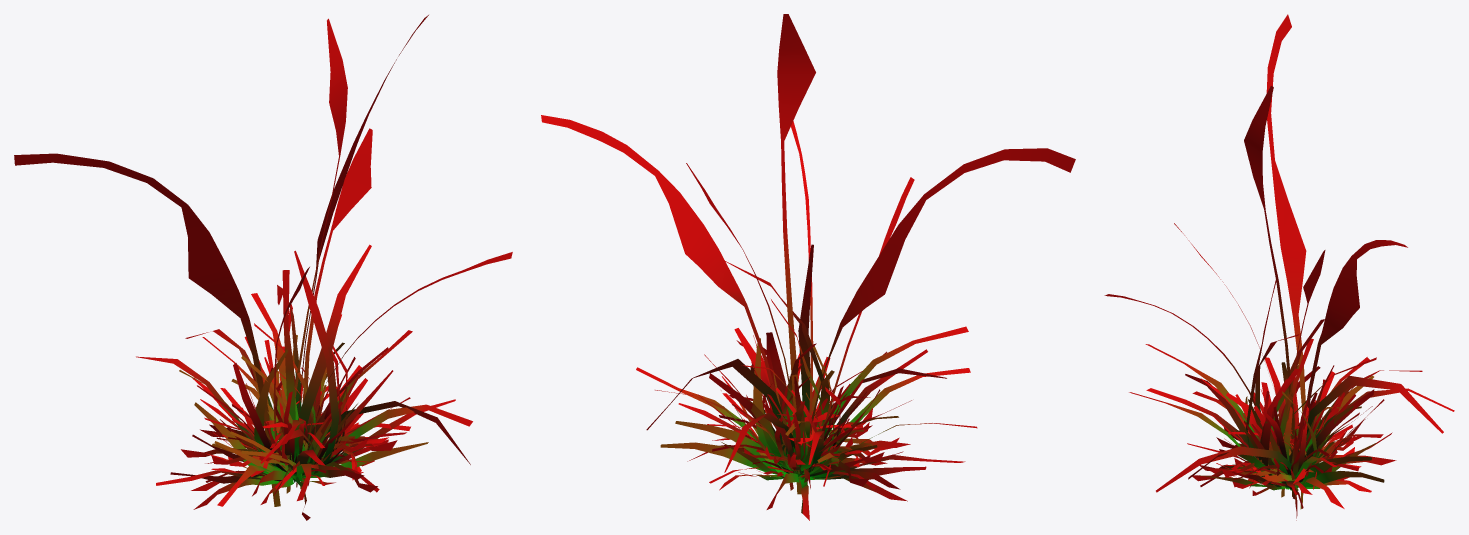
File: TallGrass1.FBX
3 views of the same model, side by side, from view 1: azimuth 30°, elevation 25°; view 2: azimuth 150°, elevation 25°; view 3: azimuth 270°, elevation 25° (orthographic). The views are drawn at different scales.
Visible parts, largest first — view 1: TallGrass1_LOD0; view 2: TallGrass1_LOD0; view 3: TallGrass1_LOD0.
Boxes of the visible parts, box(x1,y1,x2,y2) form: TallGrass1_LOD0: box(14, 15, 512, 520); TallGrass1_LOD0: box(541, 14, 1075, 520); TallGrass1_LOD0: box(1104, 14, 1454, 520).
Size of what is drawn, in the model's own units: 0.8568 by 0.8359 by 0.6065.
